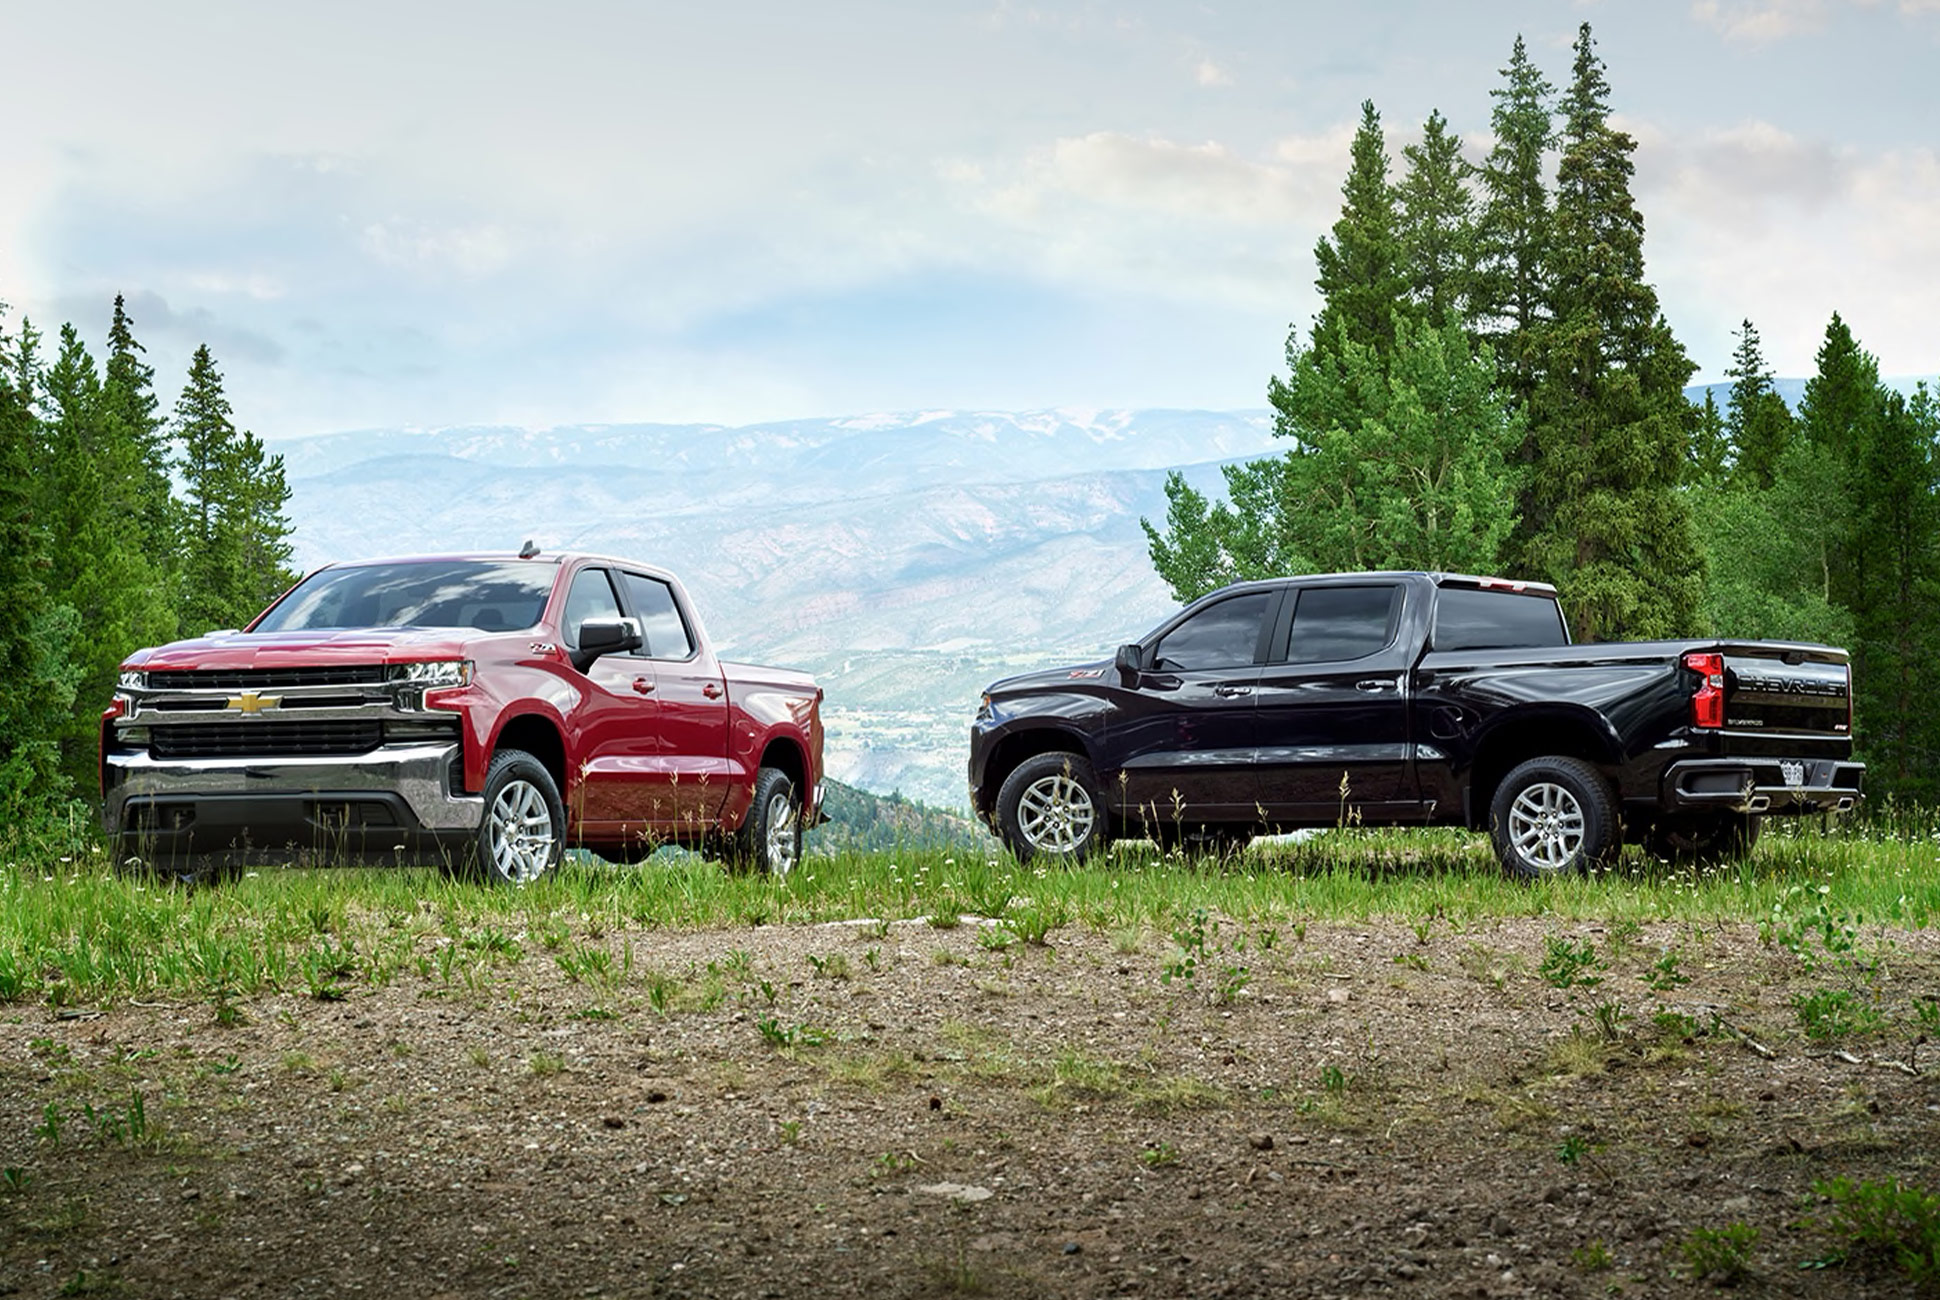Car: (949, 561, 1869, 924), (89, 534, 842, 914)
